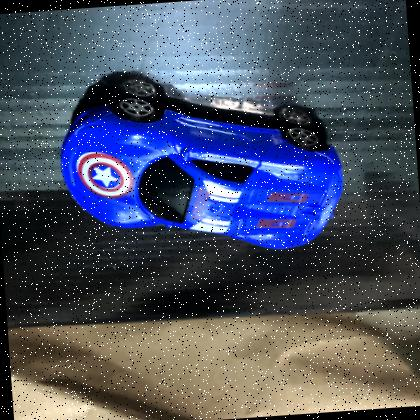Car: (60, 96, 344, 249)
